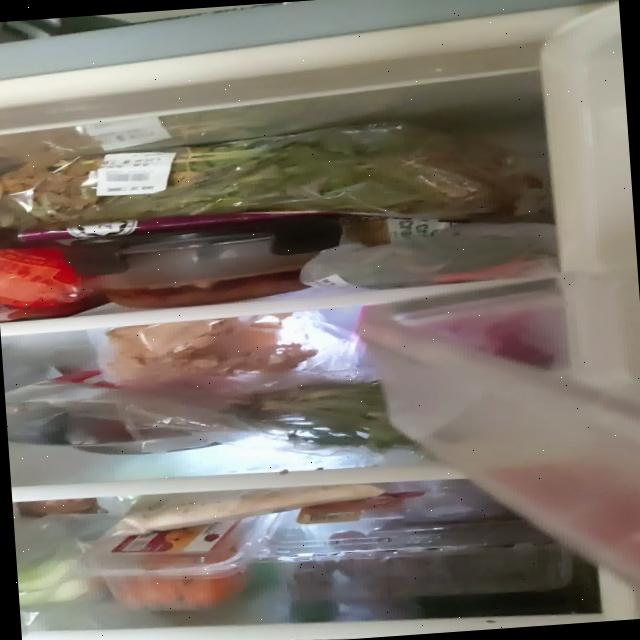leafy_greens: (0, 110, 524, 248)
orange: (0, 242, 86, 311)
tempeh: (111, 478, 388, 537)
